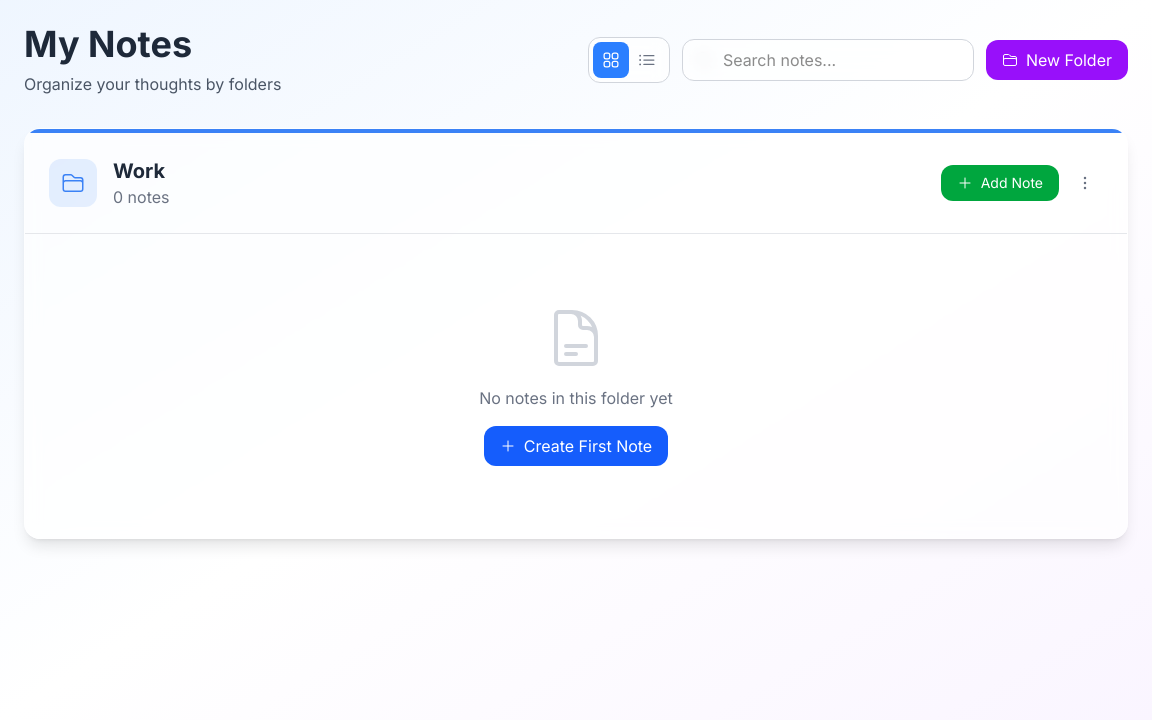
it: Notes Page › Folder Actions Menu › opens folder actions menu when ellipsis button is clicked
Click the button named "folder-actions-button" at (1085, 183), box [1067,165,1103,201]
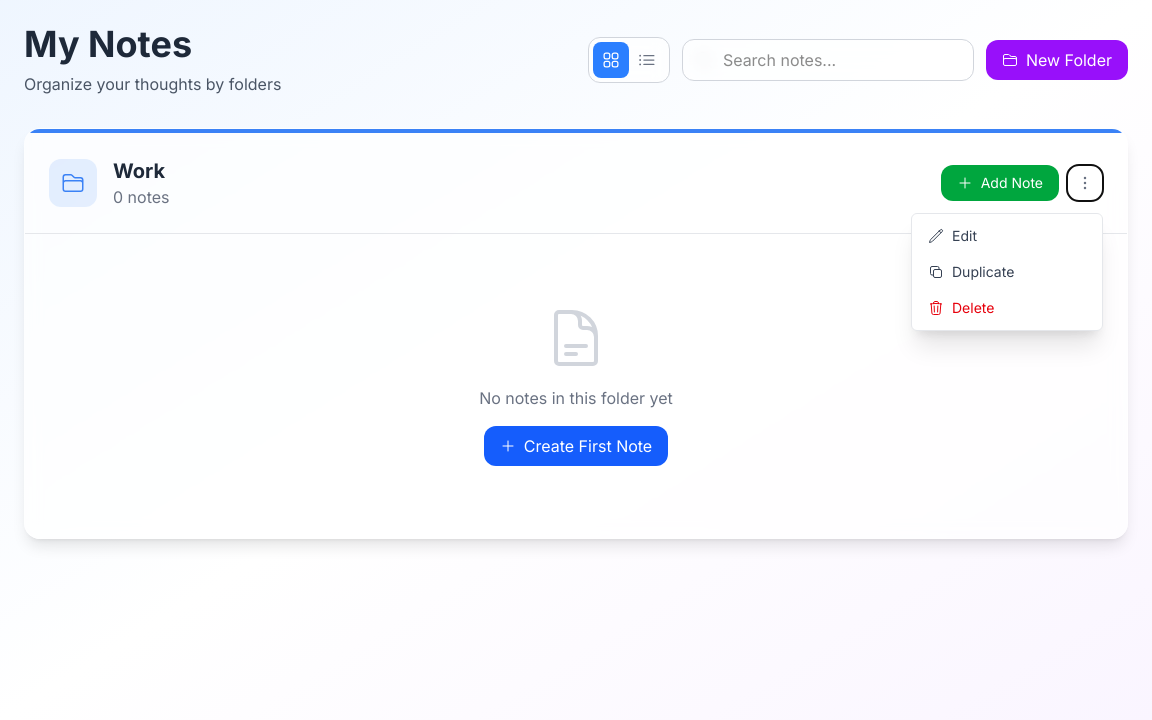
Check: the button "Edit" is shown, box [912,218,1102,254]
Check: the button "Duplicate" is shown, box [912,254,1102,290]
Check: the button "Delete" is shown, box [912,290,1102,326]
